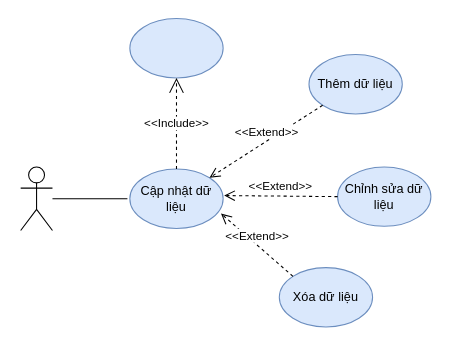
This 449x346 diagram has some shape labels left out. The shapes that lost their labels are listed below. From the top down, each one's box as (x1, y1, x2, y2) in pixels, then its label:
(129, 17, 223, 78): Đăng nhập
(20, 166, 52, 231): Admin
